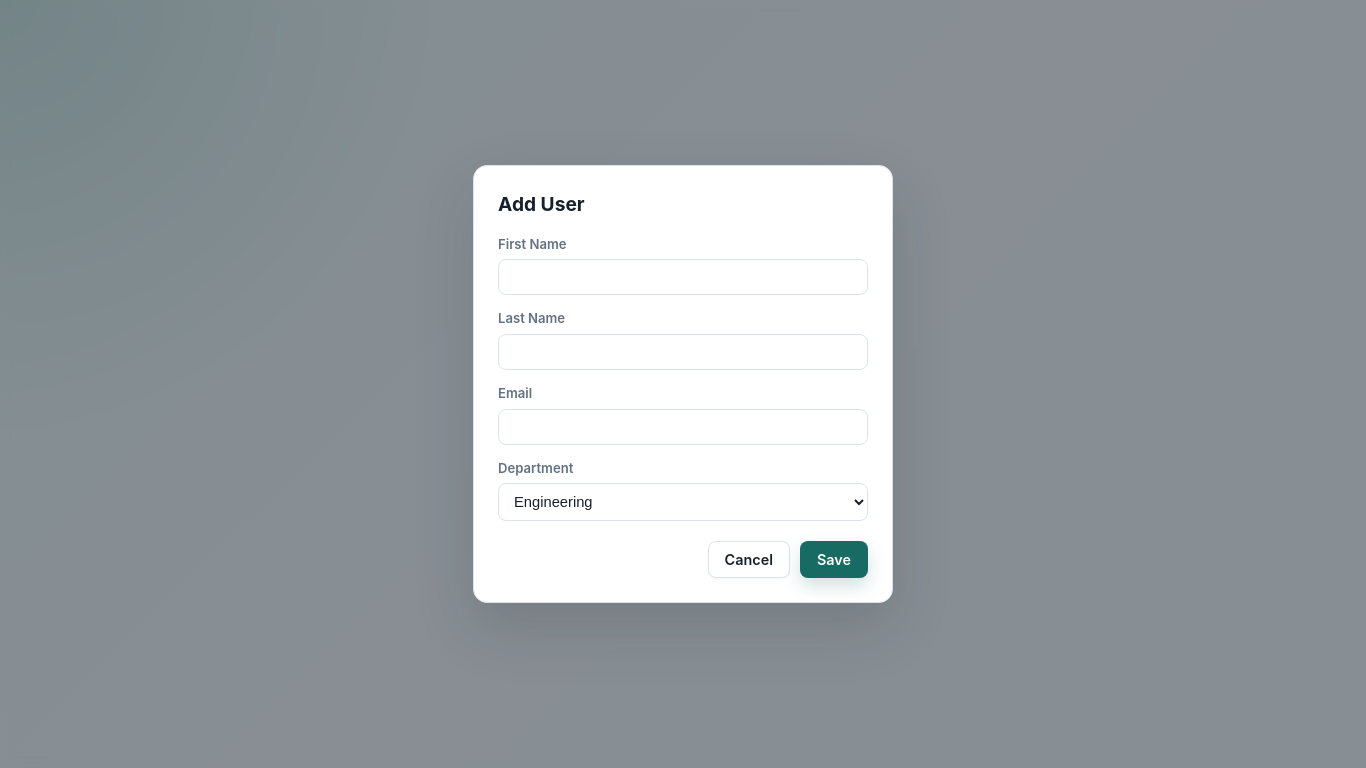
Test: UserFormModal Component › should validate required fields
Click the button "Save".
click(834, 560)  # box [800,541,868,578]
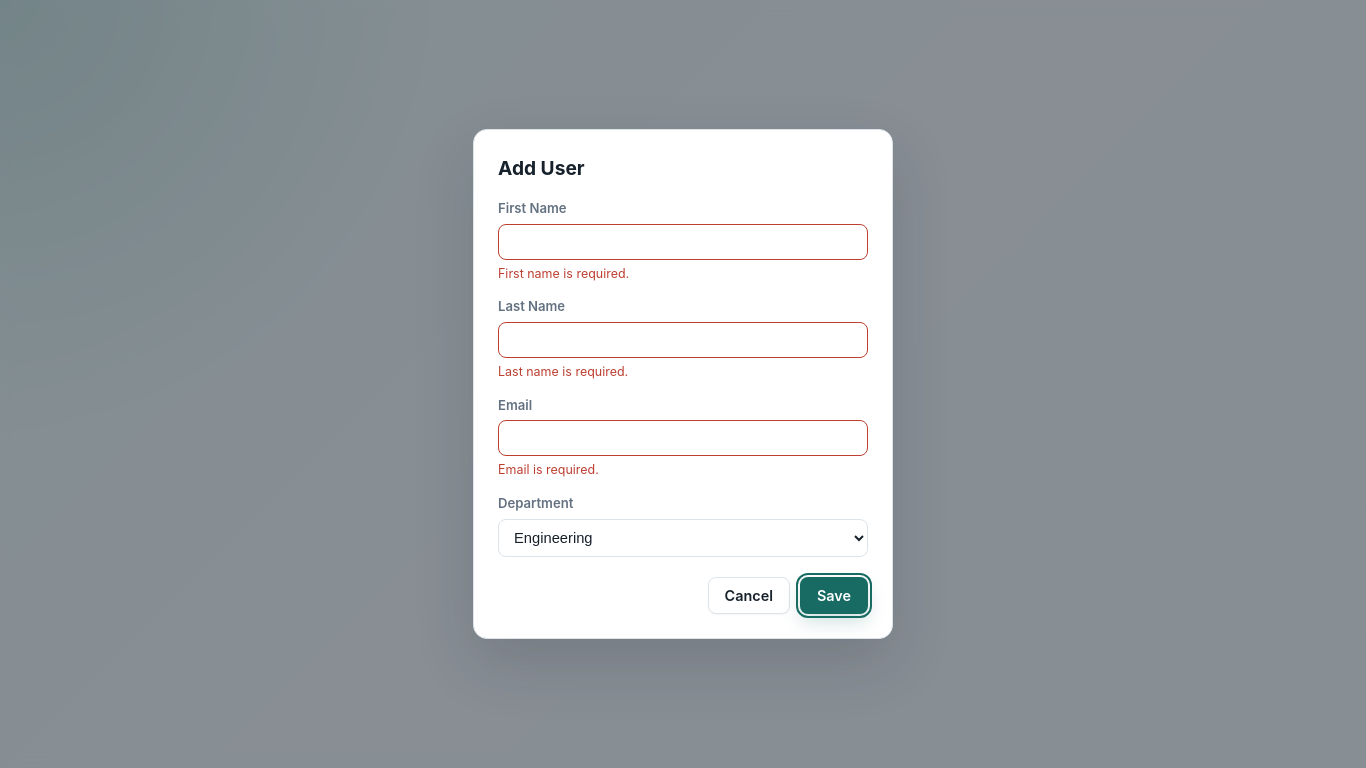
Check: the text "First name is required." is shown, box [498,266,629,281]
